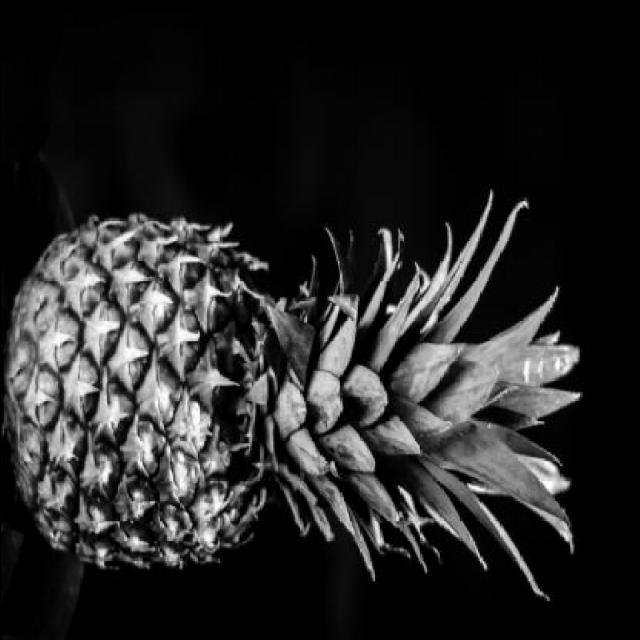Pineapple: (1, 188, 584, 604)
